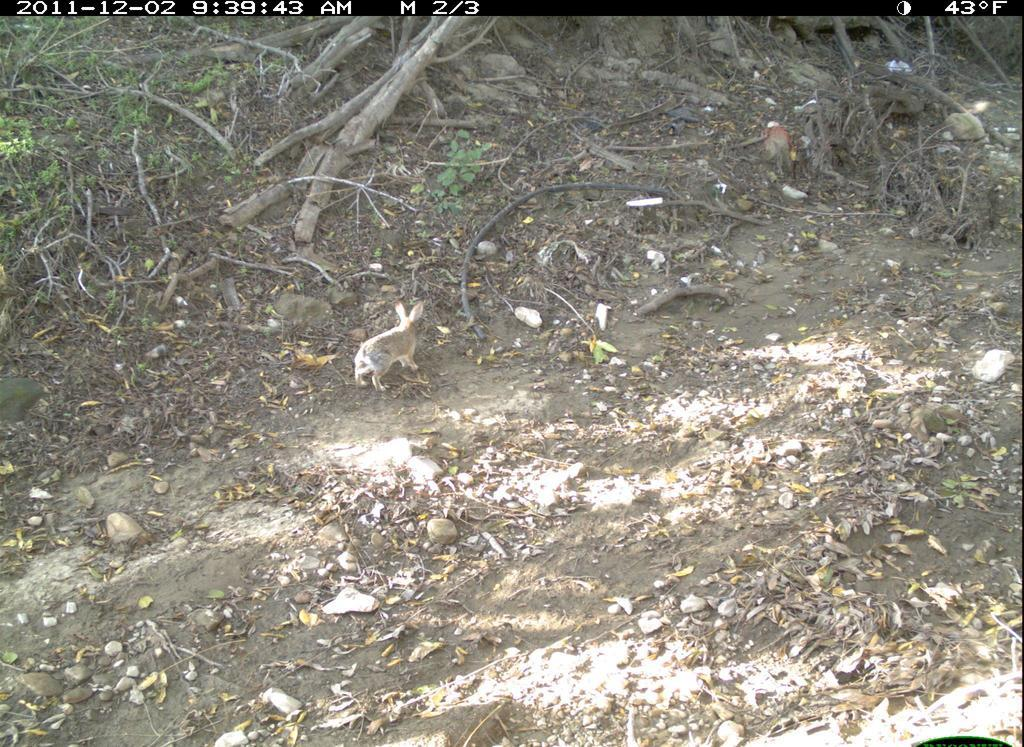rabbit: (347, 294, 436, 399)
